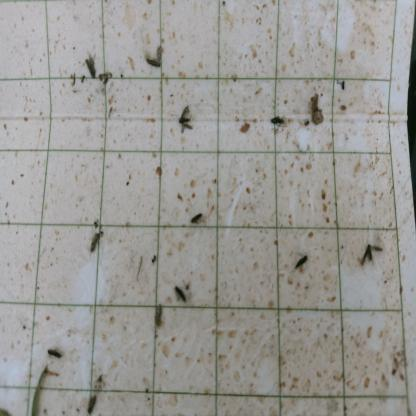prays_oleae: (175, 105, 198, 135), (360, 240, 384, 267), (144, 44, 166, 72), (81, 50, 97, 88), (267, 107, 289, 130), (45, 341, 65, 363), (292, 250, 310, 272), (187, 209, 205, 229), (87, 394, 105, 414), (98, 65, 113, 87), (173, 284, 189, 304)
